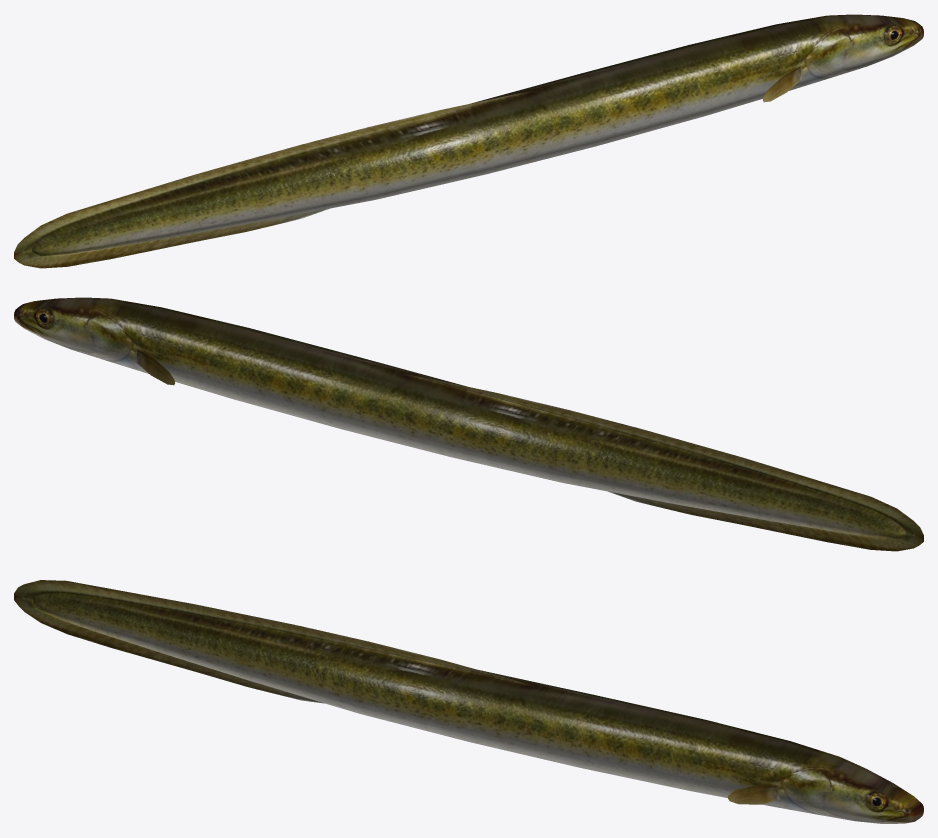
File: EuropeanEel.glb
3 views of the same model, one above another, from view 1: azimuth 30°, elevation 25°; view 2: azimuth 150°, elevation 25°; view 3: azimuth 330°, elevation 25° (orthographic).
Parts seen in each view (by area): view 1: EuropeanEel; view 2: EuropeanEel; view 3: EuropeanEel.
Part boxes in pixels (box(x1,y1,x2,y2)): EuropeanEel: box(14, 14, 923, 268); EuropeanEel: box(14, 297, 923, 551); EuropeanEel: box(14, 580, 923, 823).
Size of the model in its own units: 2 by 0.1599 by 0.1337.
Materials: 1 (1 with a texture image).
